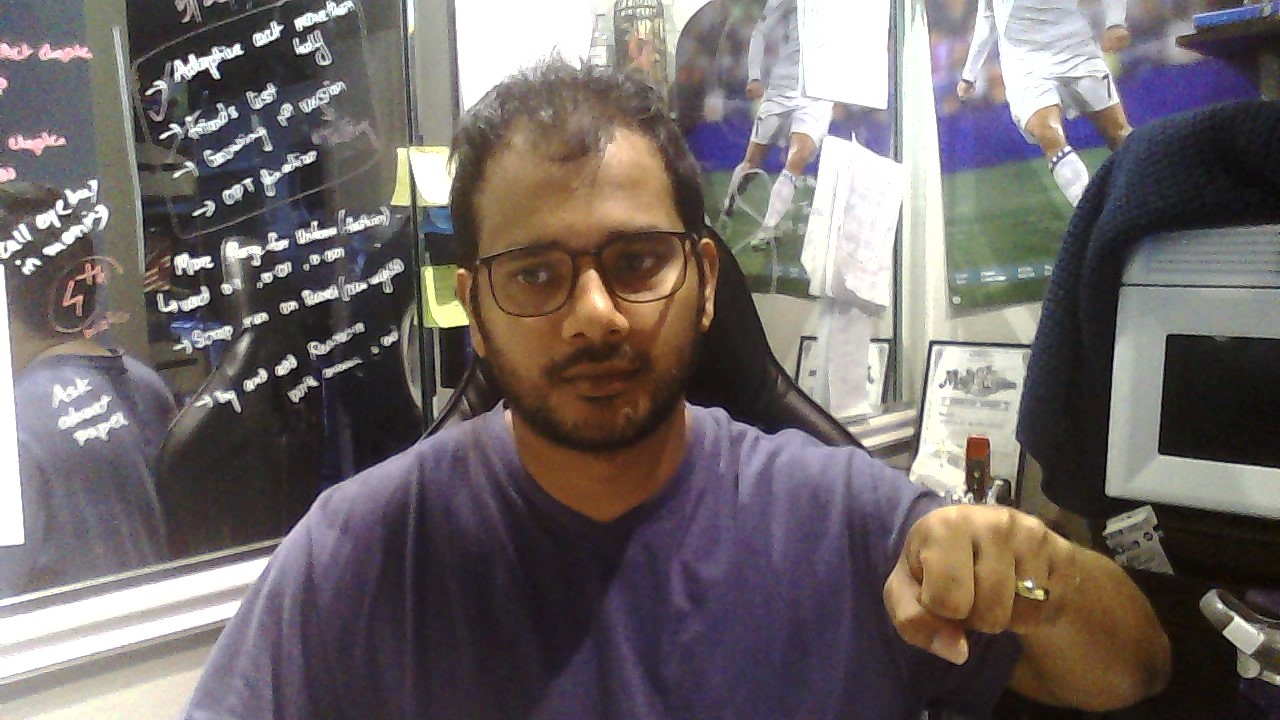Yes: (882, 506, 1080, 668)
